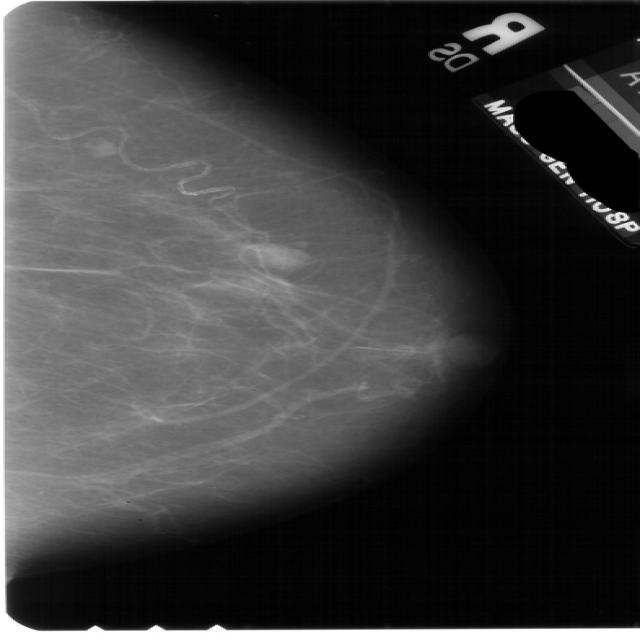tumour: (246, 242, 309, 268)
